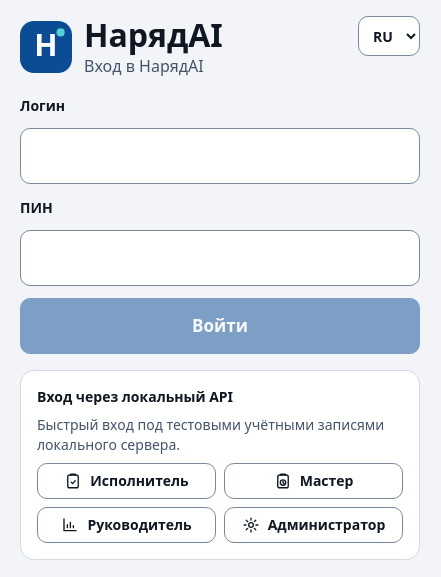
Test: LoginPage form › keeps only digits in pin, max 8
Type "ab12cd34567890" into the password field labelled "ПИН" at point(220, 258), box x1=20 y1=230 x2=420 y2=286
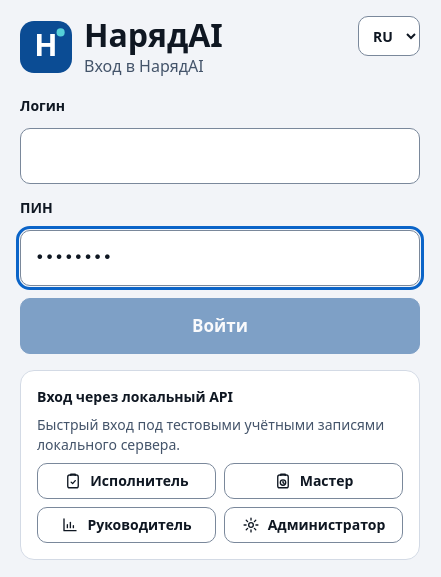
Result: the password field labelled "ПИН" holds "12345678" at x1=20 y1=230 x2=420 y2=286
